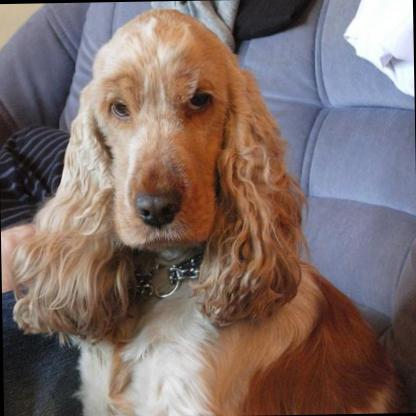cocker_spaniel: (0, 4, 398, 416)
